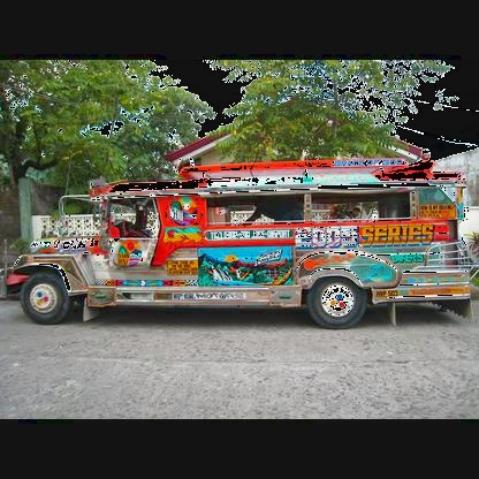jeepney: (0, 164, 479, 343)
